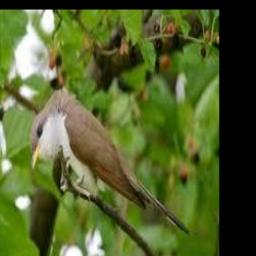Cuckoo: (32, 88, 190, 235)
